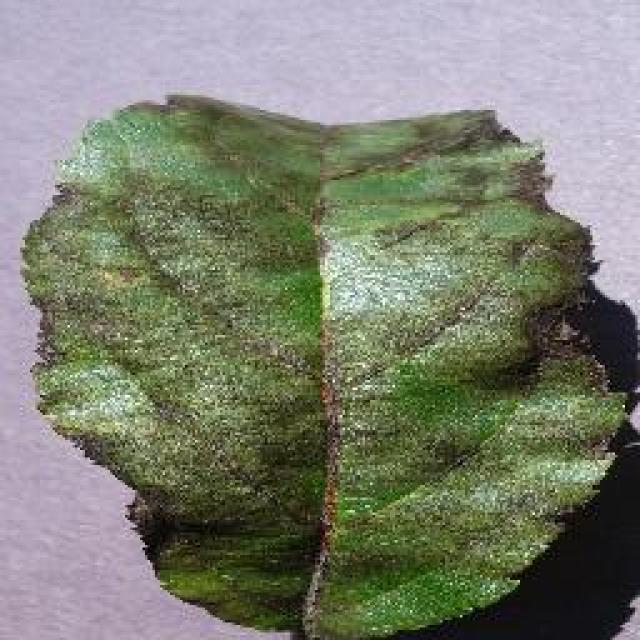apple scab disease: (17, 88, 635, 638)
